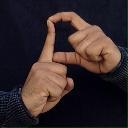hand: (20, 20, 74, 117), (48, 10, 121, 74)
